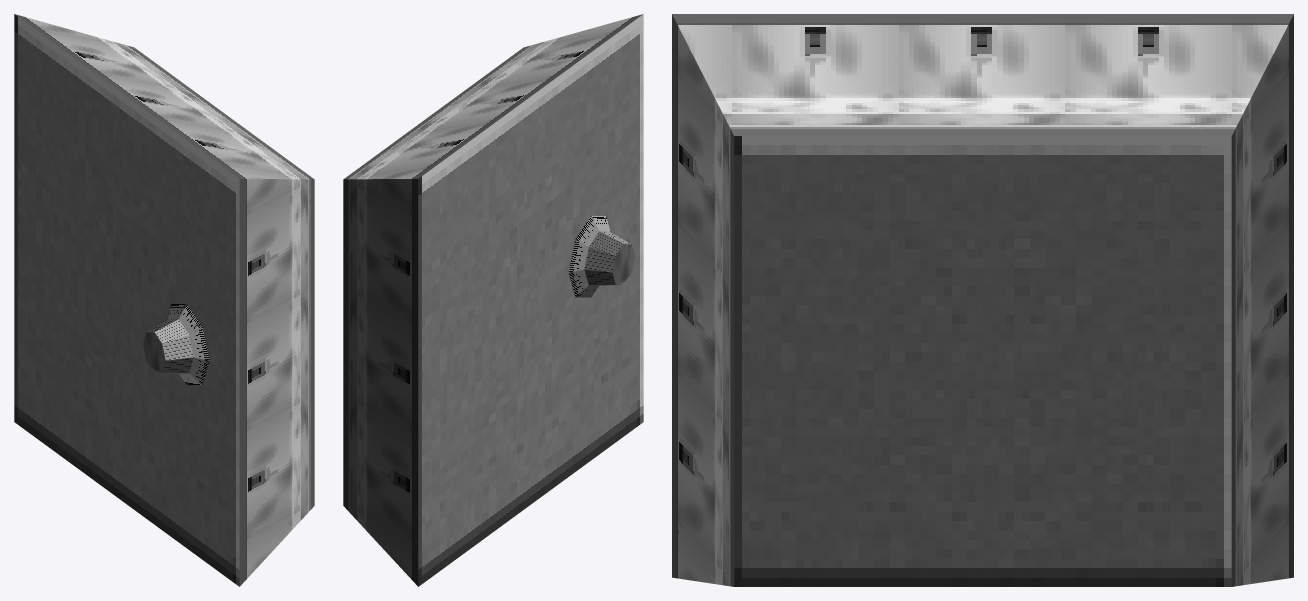
Rendered from primary_134.glb.
3 renders of one model, left to right at view 1: azimuth 30°, elevation 25°; view 2: azimuth 150°, elevation 25°; view 3: azimuth 270°, elevation 25°, orthographic. The views are drawn at different scales.
Visible parts, largest first — view 1: Object; view 2: Object; view 3: Object.
Boxes of the visible parts, x1,y1,x2,y2 form: Object: [14, 14, 314, 586]; Object: [343, 14, 643, 586]; Object: [672, 14, 1293, 586].
Bounding box in the file's own units: 0.2765 × 0.8283 × 0.8283.
Materials: 12 (12 with a texture image).
